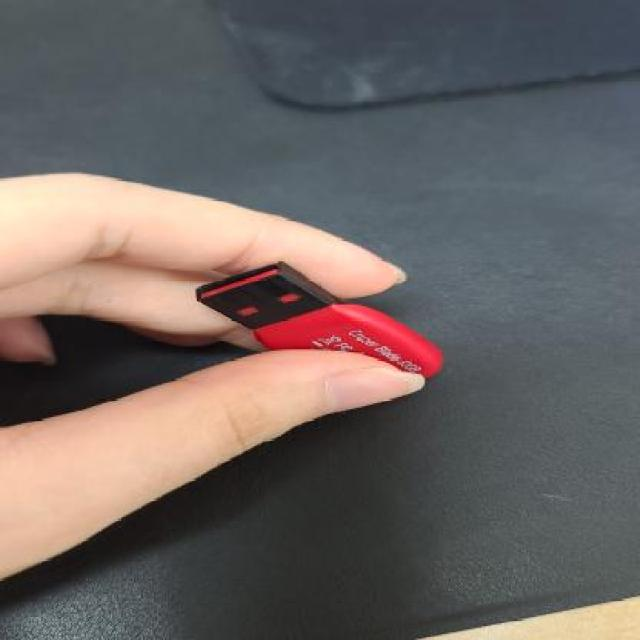Flashdisk: (194, 256, 446, 379)
